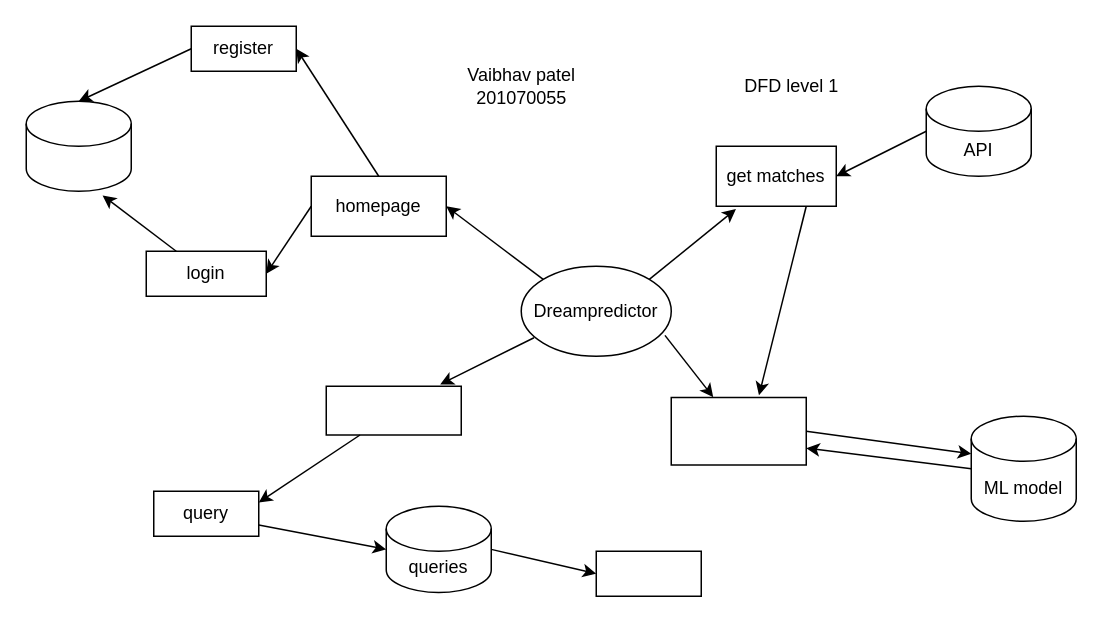
The diagram is 1103 pixels wide and 623 high, and some of its shapes have lost their labels. Here are the shapes that lost their labels. From the top down, the centre of each, then its label:
At point (78, 145): "users".
At point (393, 410): "help".
At point (738, 430): "get prediction".
At point (648, 573): "admin".
